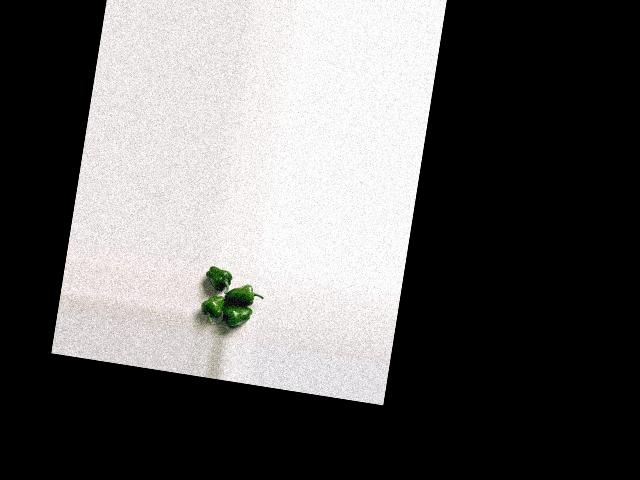bell_pepper: (199, 291, 224, 324)
